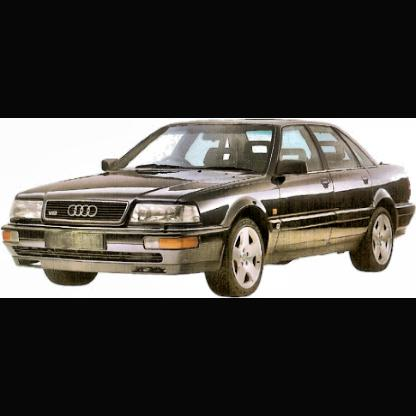Audi V8 Sedan 1994: (4, 123, 416, 298)
